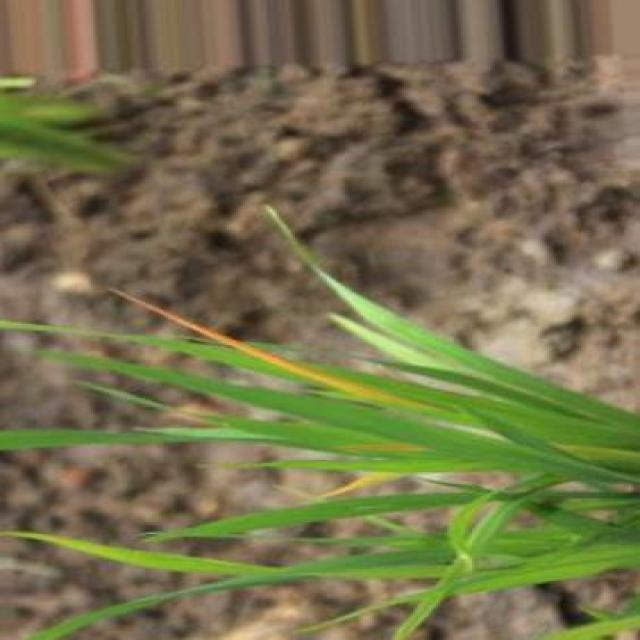Rice Tungro: (109, 289, 399, 403)
